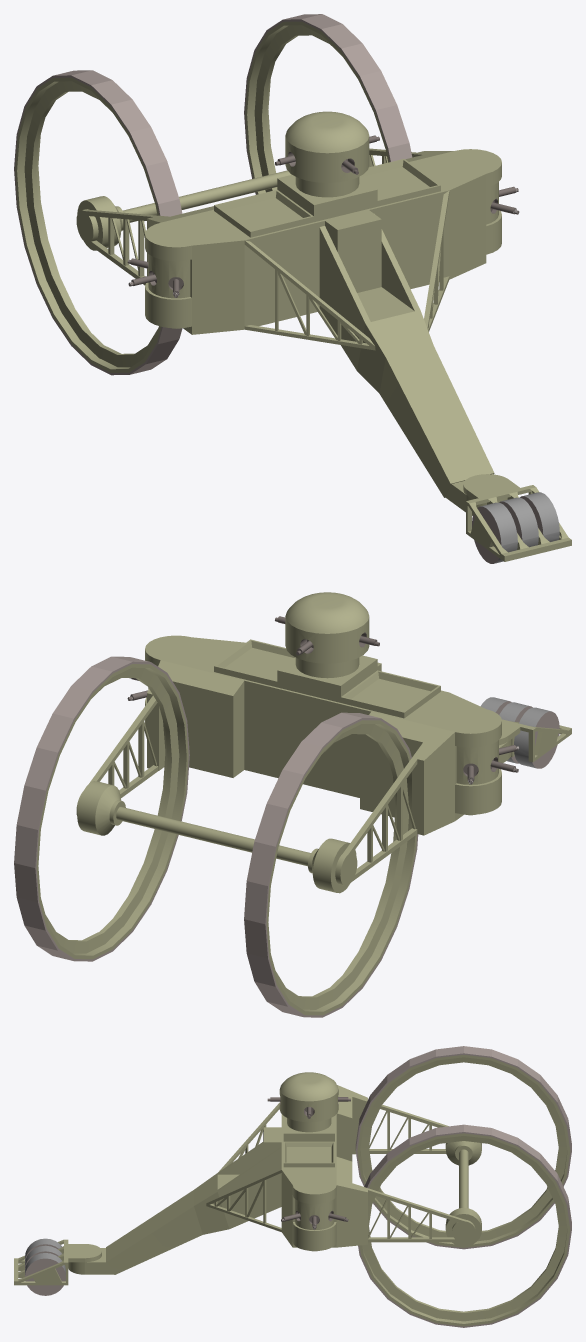
3 renders of one model, top to bottom at view 1: azimuth 30°, elevation 25°; view 2: azimuth 150°, elevation 25°; view 3: azimuth 270°, elevation 25°, orthographic. The views are drawn at different scales.
Parts seen in each view (by area): view 1: Material3, Material2, Material3.001; view 2: Material3, Material2, Material3.001; view 3: Material3, Material2, Material3.001.
Part boxes in pixels (x1=…): Material3: x1=15, y1=21, x2=571, y2=561; Material2: x1=14, y1=14, x2=559, y2=563; Material3.001: x1=127, y1=135, x2=519, y2=297; Material3: x1=36, y1=592, x2=571, y2=1015; Material2: x1=14, y1=656, x2=559, y2=1017; Material3.001: x1=127, y1=616, x2=519, y2=784; Material3: x1=14, y1=1055, x2=570, y2=1326; Material2: x1=25, y1=1046, x2=571, y2=1327; Material3.001: x1=267, y1=1097, x2=350, y2=1229.
Size of the model in its own units: 14149 by 10308 by 25166.
